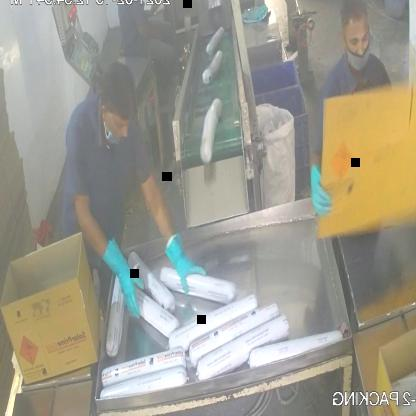glove: (95, 224, 149, 334), (156, 222, 209, 300), (311, 152, 339, 223)
